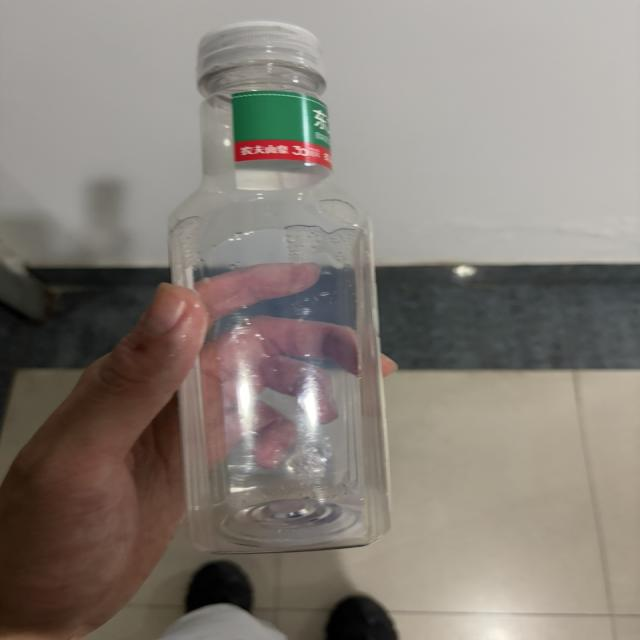empty: (169, 21, 389, 553)
